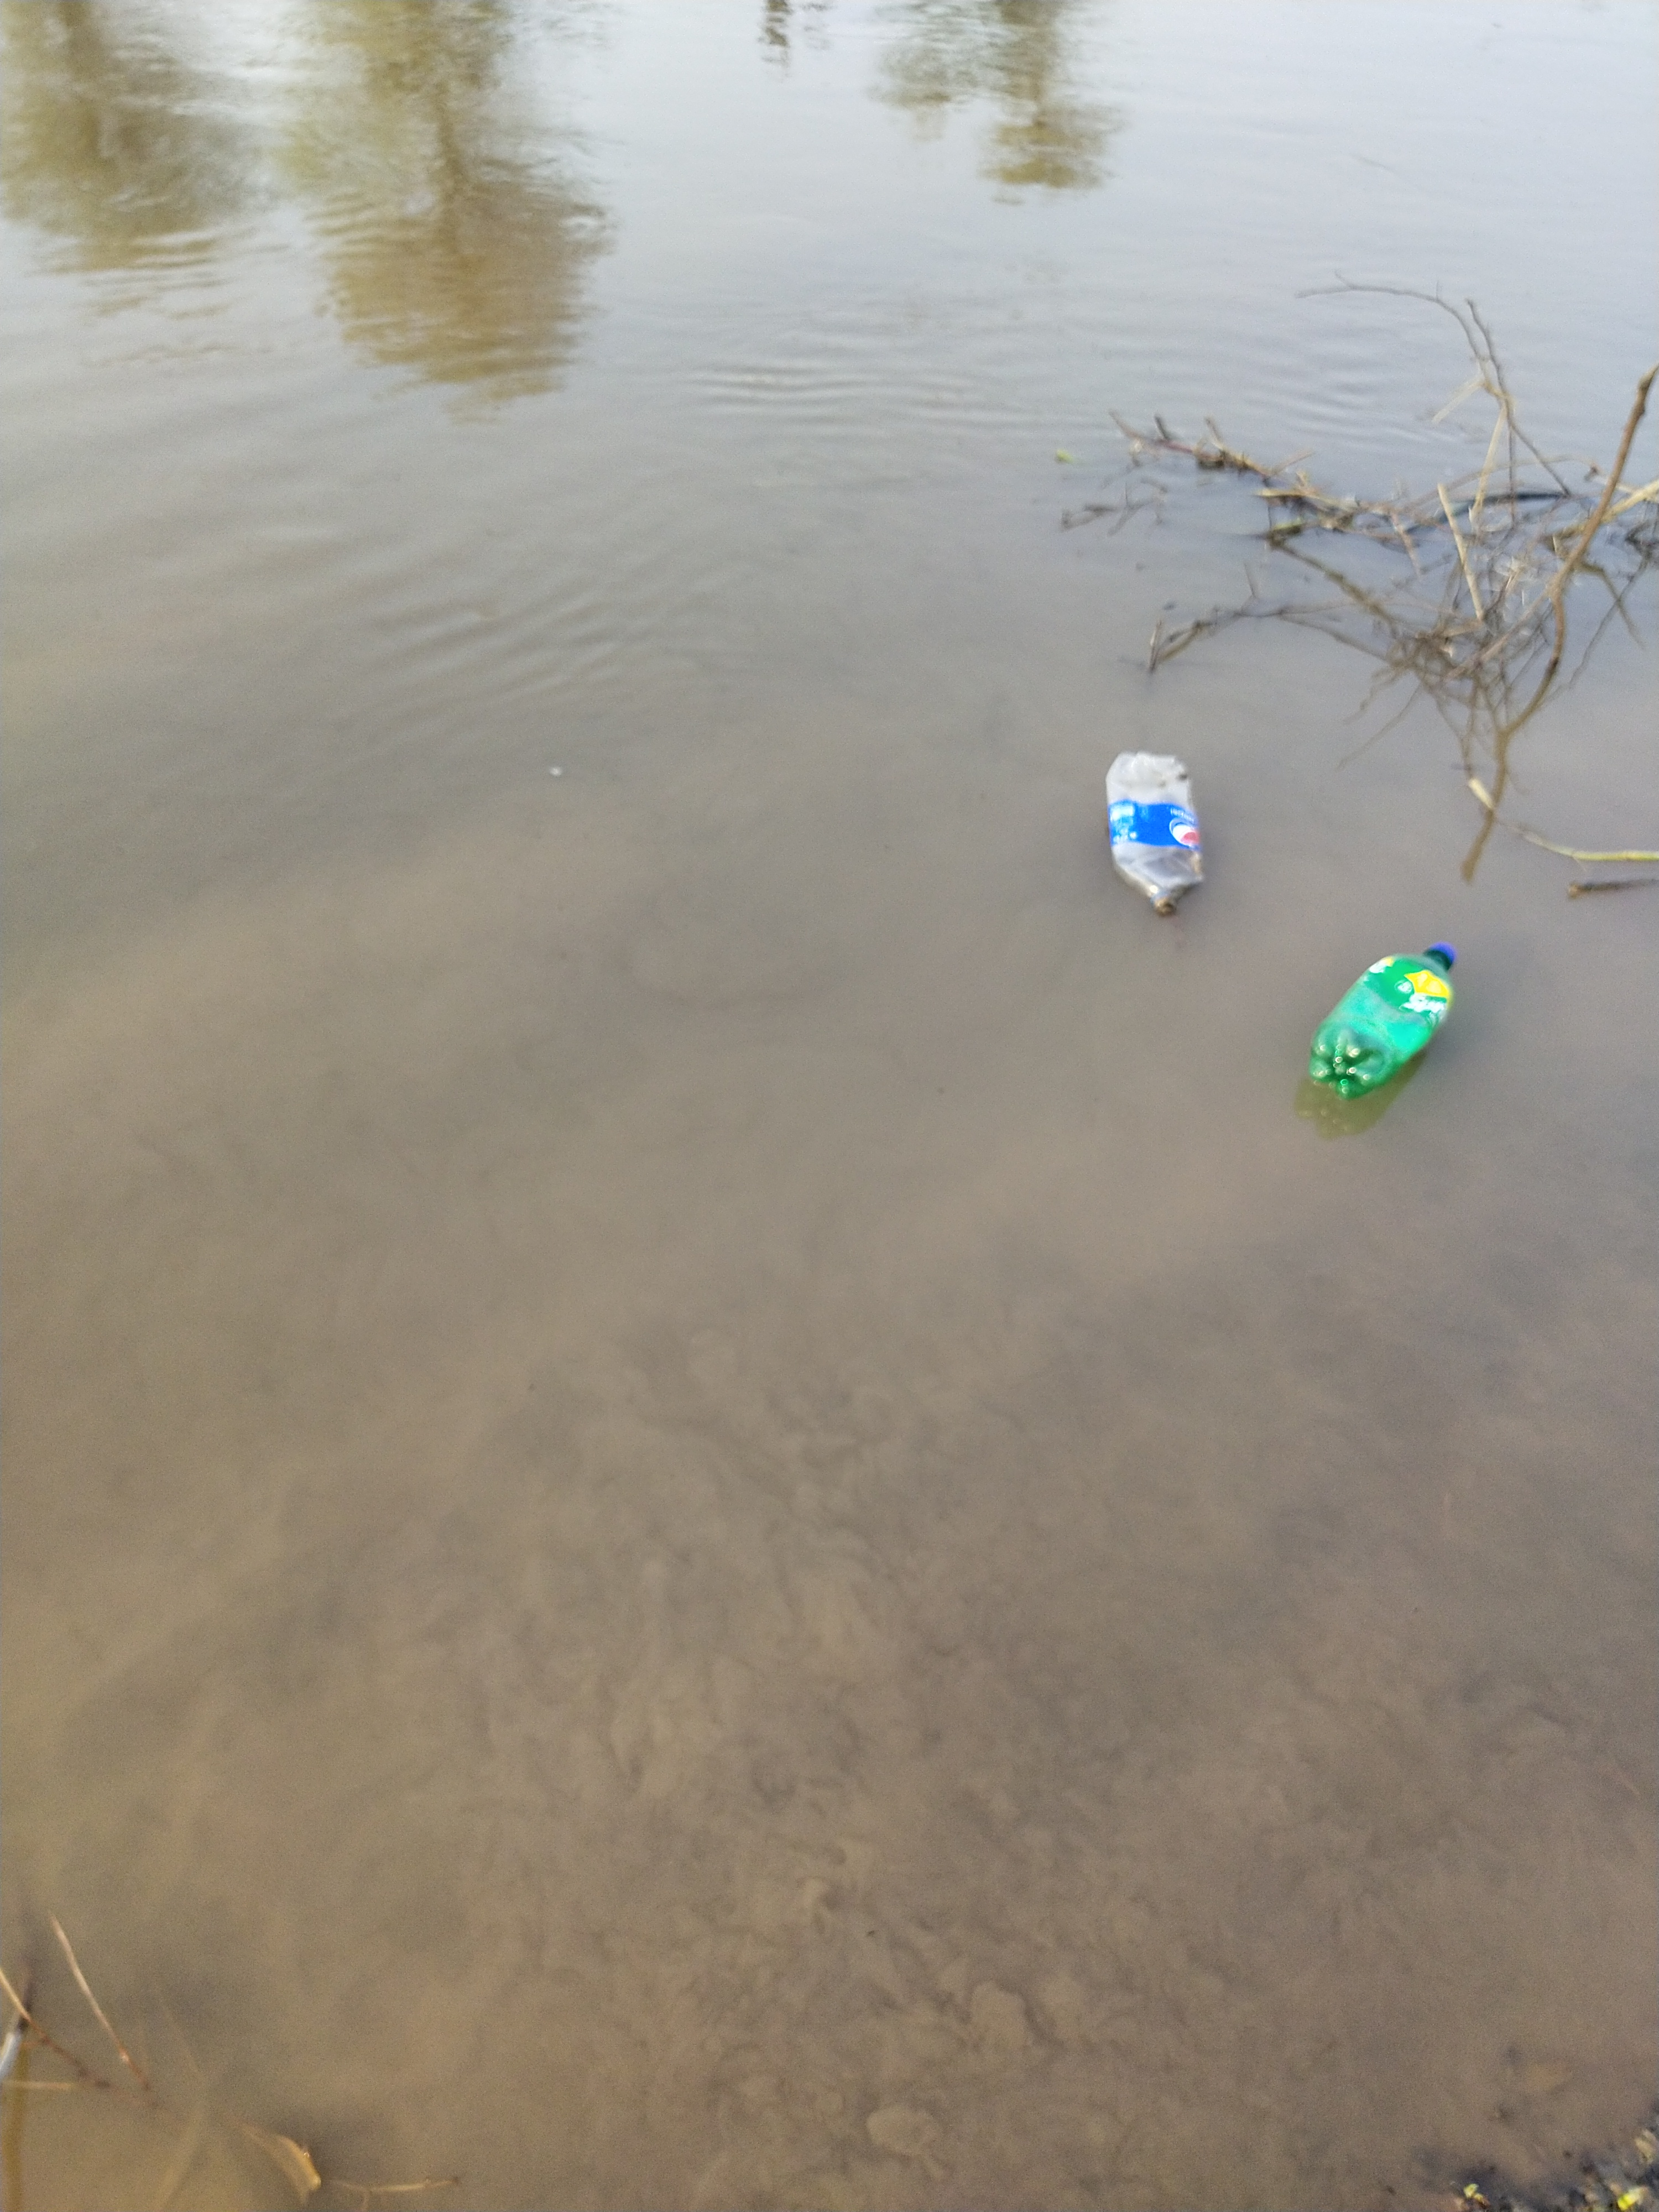Plastic Bottle: (1307, 942, 1457, 1101), (1105, 751, 1202, 916)
